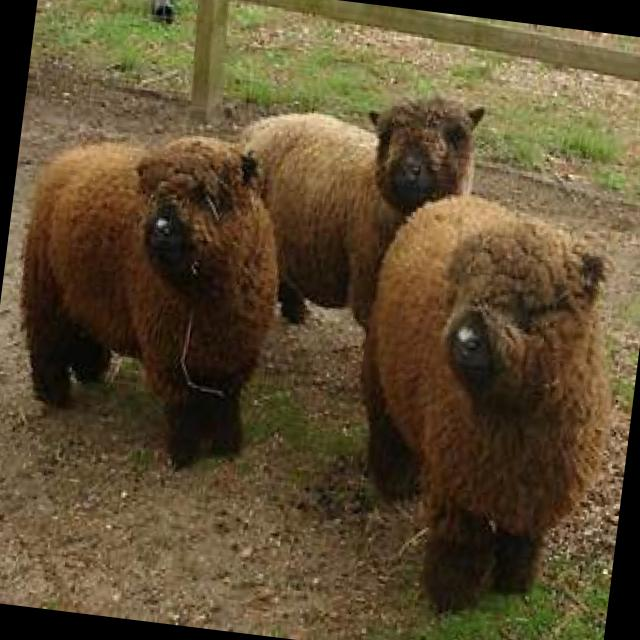animal: (331, 180, 639, 630), (0, 114, 298, 477), (218, 68, 487, 343)
